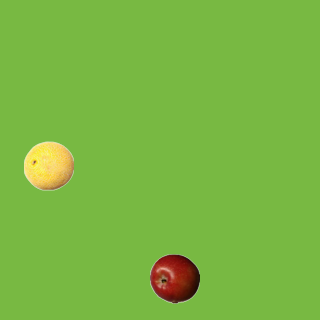Apple Braeburn: (149, 253, 199, 303)
Cantaloupe 1: (23, 140, 73, 190)
